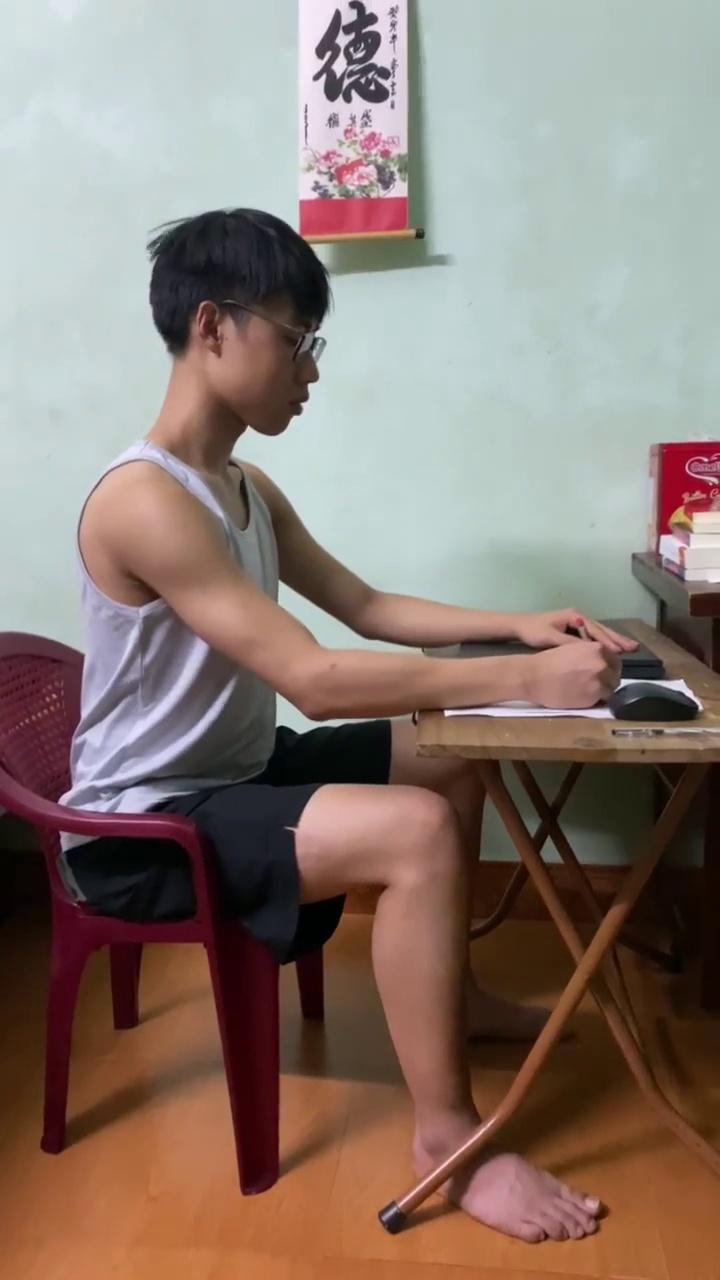GoodPosture: (78, 209, 626, 1173)
